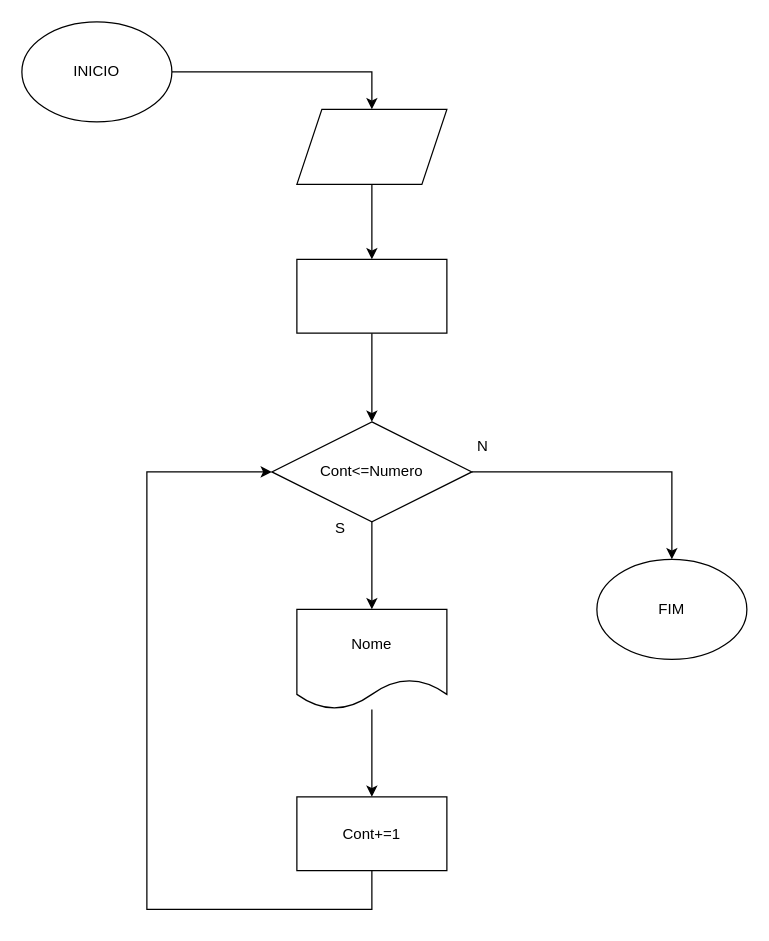
The diagram is 769 pixels wide and 941 high, and some of its shapes have lost their labels. Here are the shapes that lost their labels. From the top down, the centre of each, then its label:
At [371,146]: "Nome Numero".
At [371,295]: "Cont=1".
